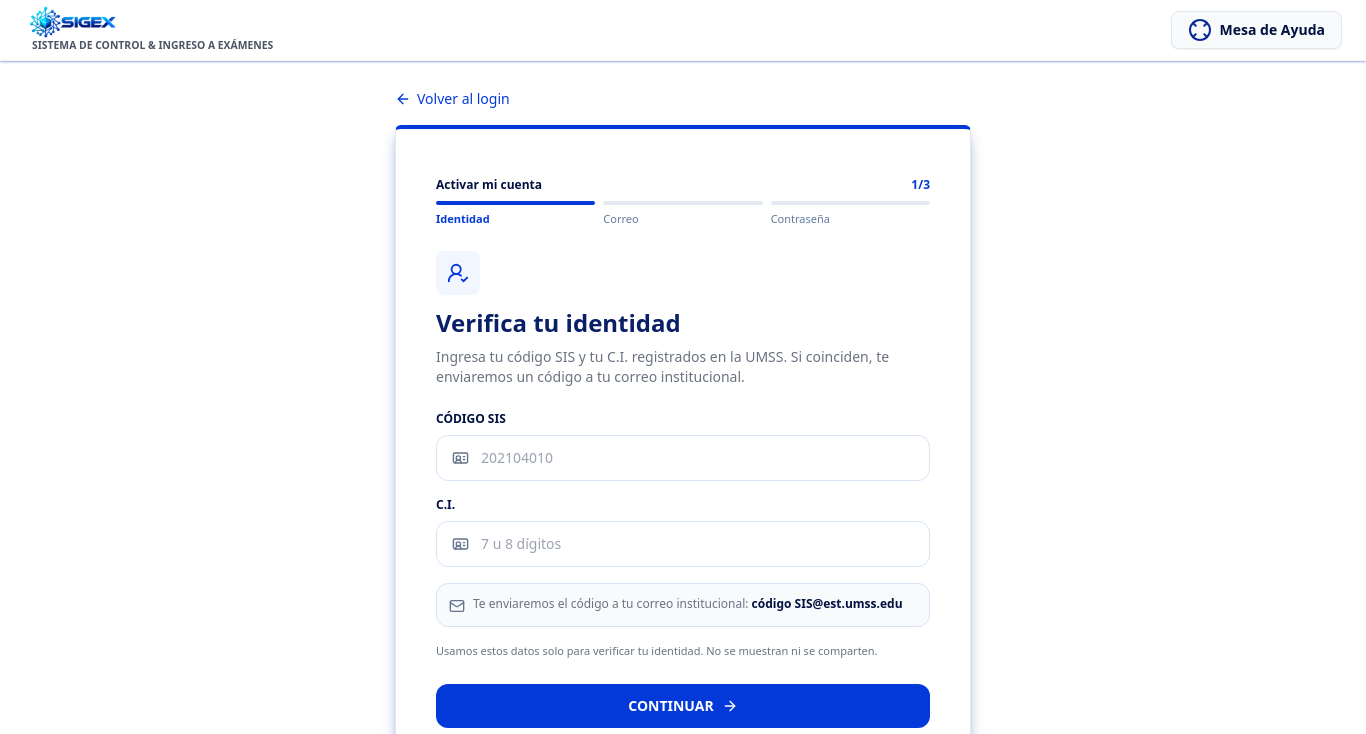
Test: ActivarCuentaPage (CTA-01) › no acepta un código SIS ni un C.I. ficticios (BUG-E01/E02 de HU#5)
Type "444444444" into the field labelled "CÓDIGO SIS" at coordinates (683, 458), box [436,435,930,481]
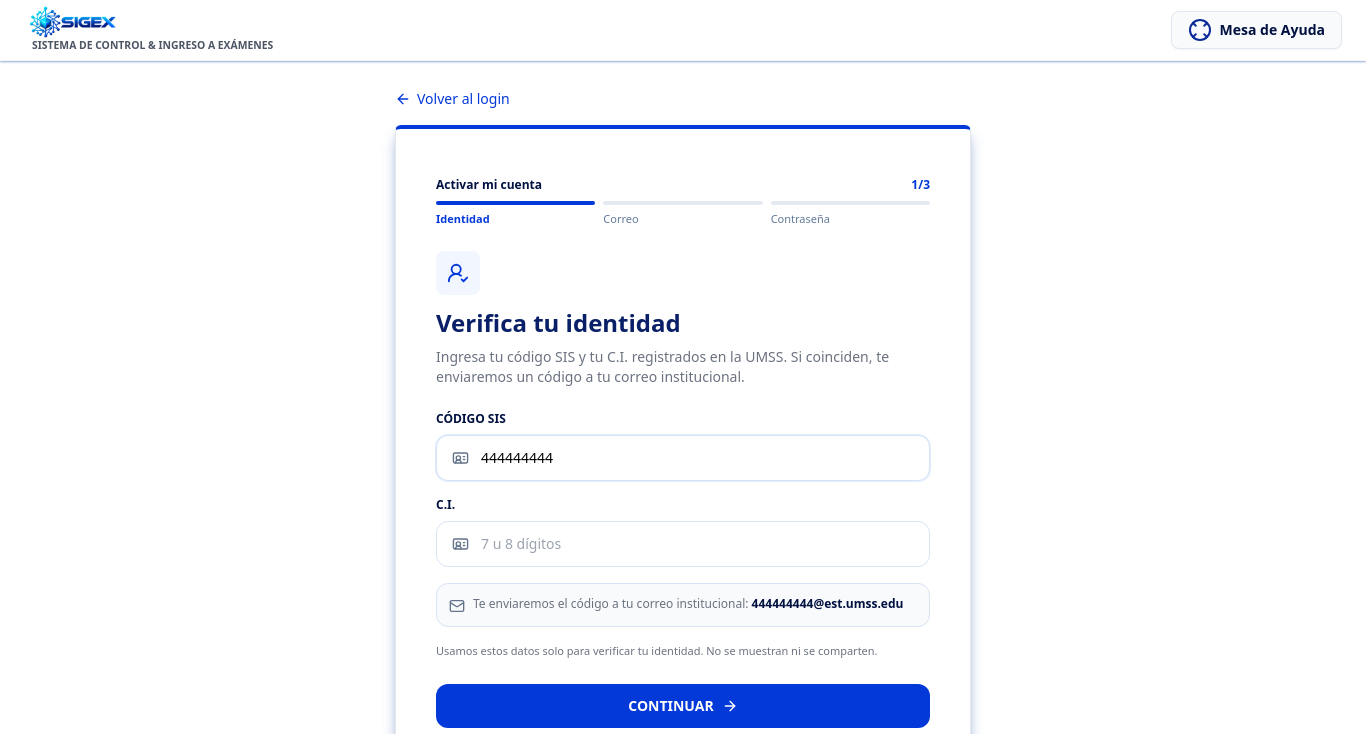
Type "12345678" into the field labelled "C.I." at coordinates (683, 544), box [436,521,930,567]
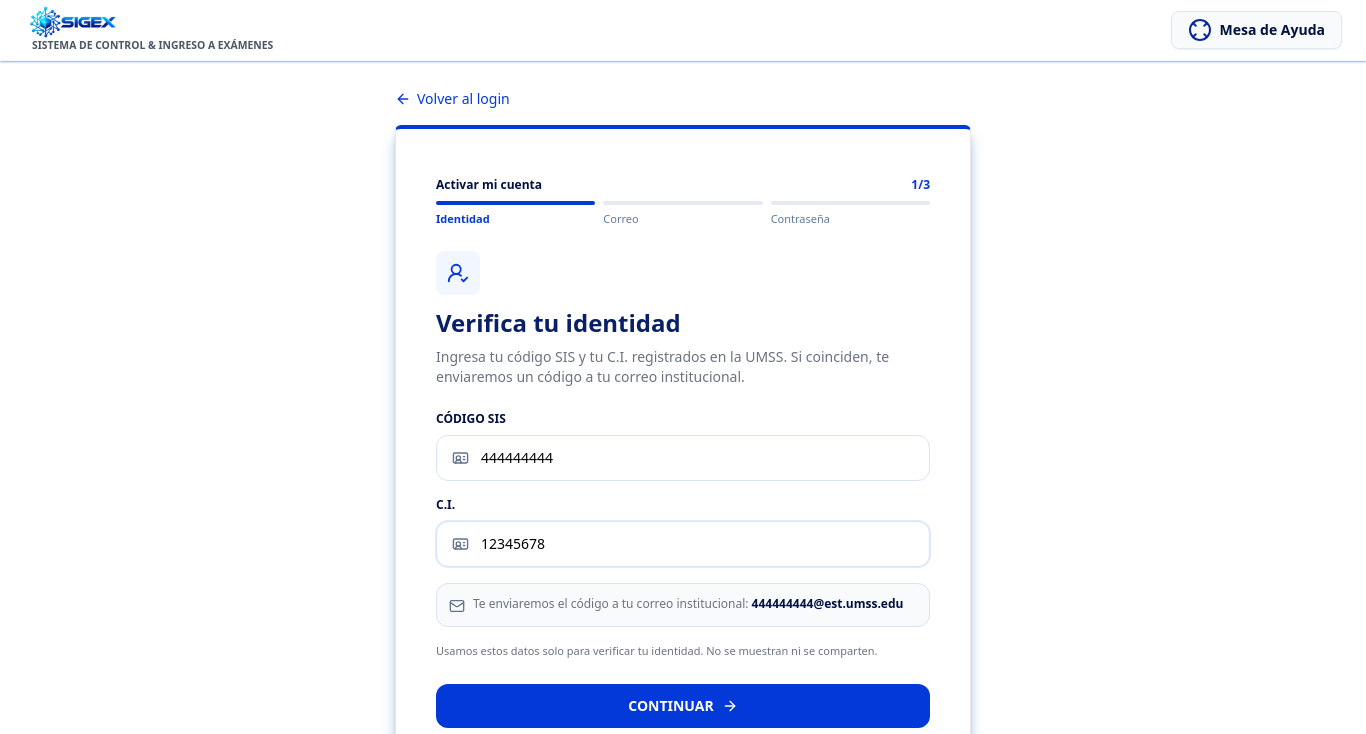
Click the button "CONTINUAR" at coordinates (683, 706), box [436,684,930,728]
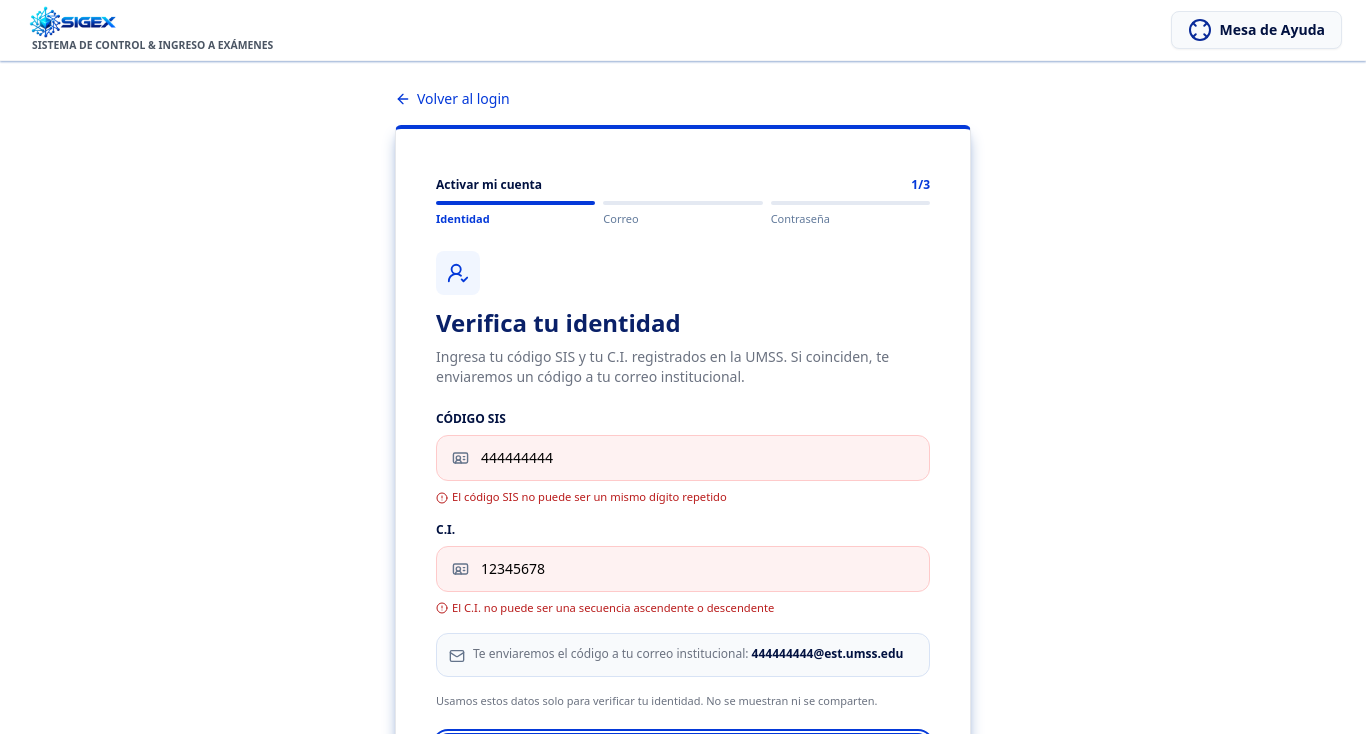
Expected: the text "El código SIS no puede ser un mismo dígito repetido" is shown, [436,489,727,504]
Expected: the text "El C.I. no puede ser una secuencia ascendente o descendente" is shown, [436,600,774,615]
